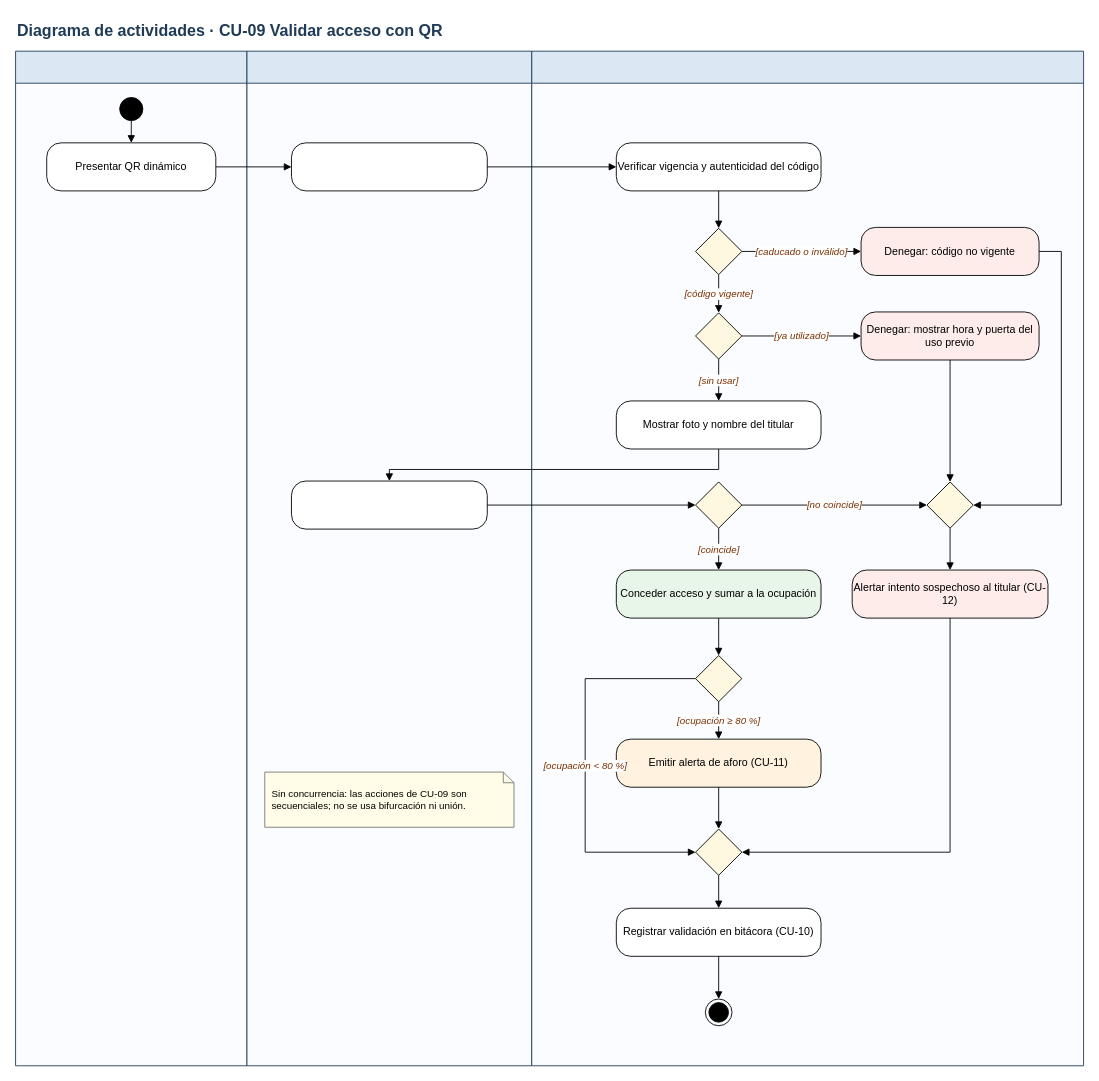
This 1099x1081 diagram has some shape labels left out. The shapes that lost their labels are listed below. From the top down, each one's box as (x1, y1, x2, y2) in pixels, then its label:
(291, 142, 487, 191): Escanear código QR
(291, 480, 487, 529): Comparar la foto con la persona
(15, 50, 247, 1066): Asistente
(246, 50, 532, 1066): Validador de acceso
(531, 50, 1084, 1066): Sistema EventFlow
